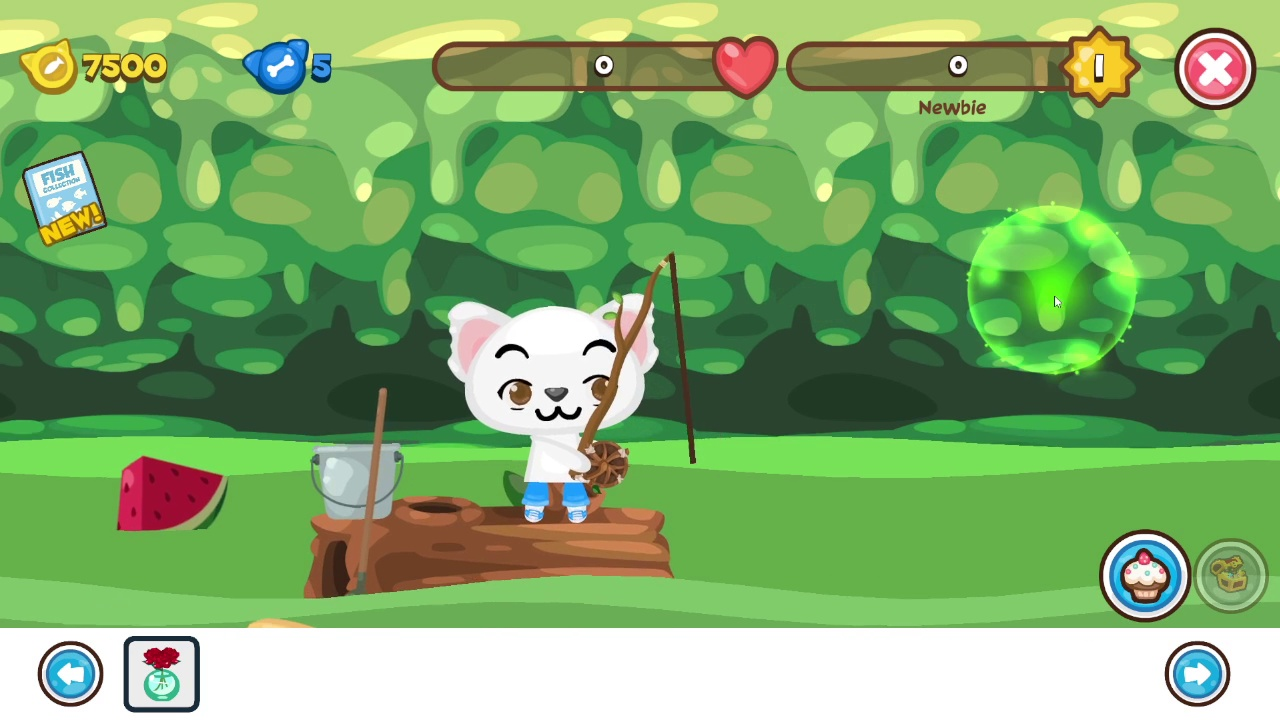point: (965, 204, 1139, 376)
